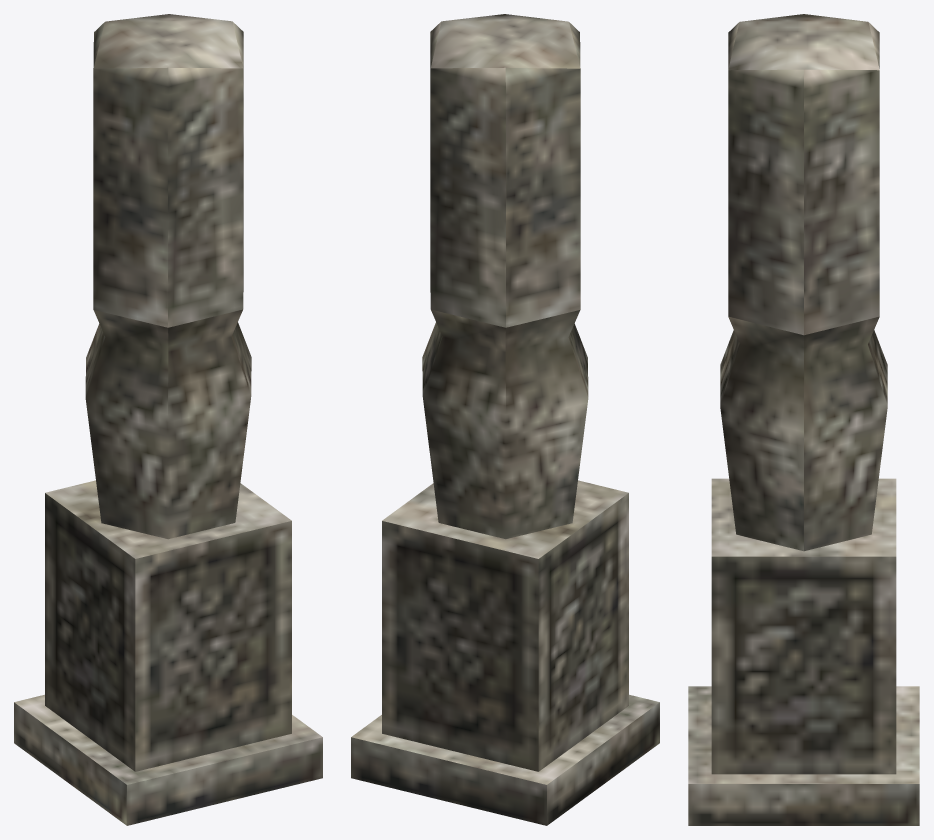
Rendered from general_obj_stoneimage03_lod_01.glb.
3 views of the same model, side by side, from view 1: azimuth 30°, elevation 25°; view 2: azimuth 150°, elevation 25°; view 3: azimuth 270°, elevation 25° (orthographic). The views are drawn at different scales.
Parts seen in each view (by area): view 1: Mesh03; view 2: Mesh03; view 3: Mesh03.
Part boxes in pixels (x1,y1,x2,y2): Mesh03: (14,14,322,825); Mesh03: (351,14,659,825); Mesh03: (688,14,919,825).
Bounding box in the file's own units: 0.8807 × 3.11 × 0.8807.
Materials: 1 (1 with a texture image).
